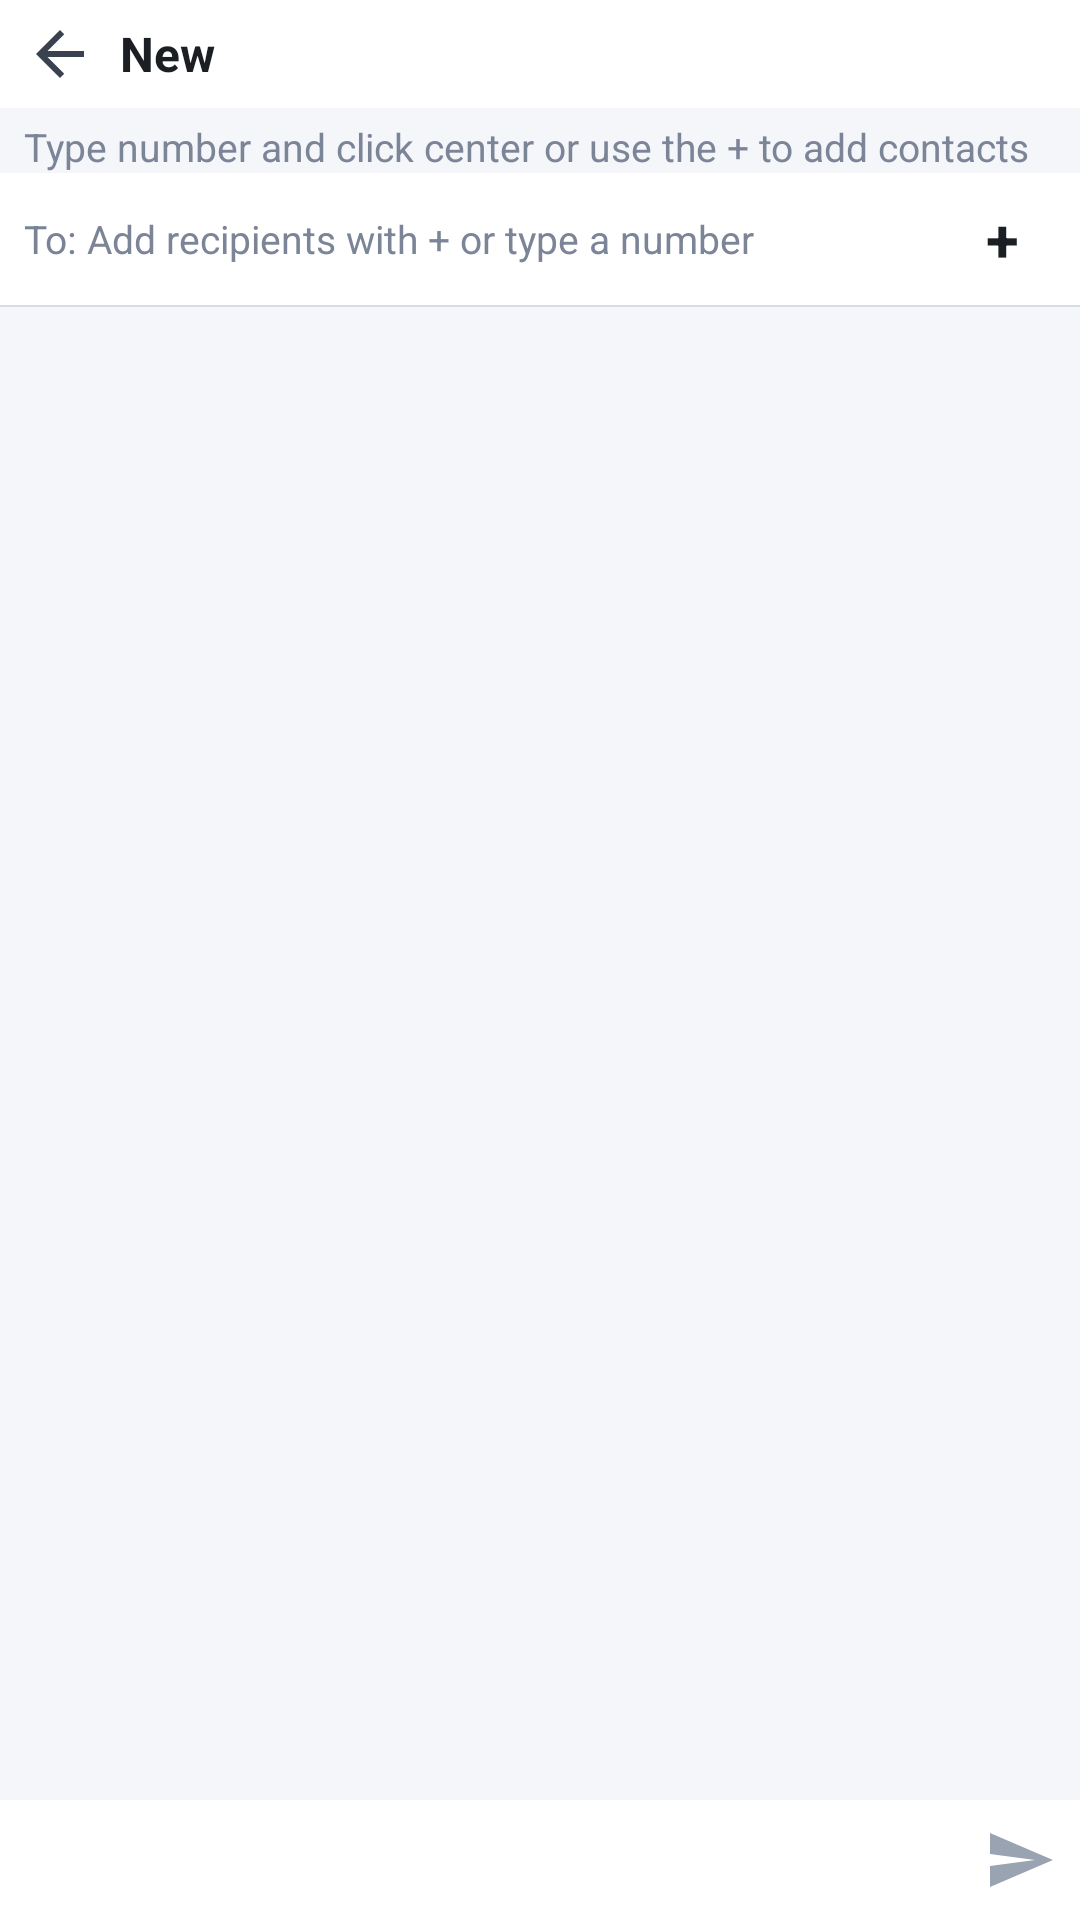

Screen size 1080px×1920px. Icon name, then its box in pixels as (x1,y1,x2,y2):
Back: (36,30,84,78)
